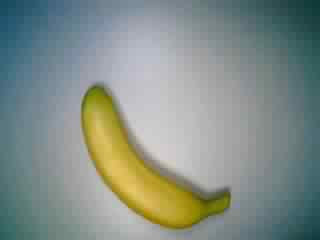banana: (78, 86, 234, 233)
